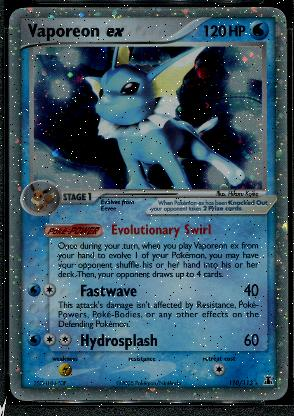Card: (6, 5, 288, 402)
